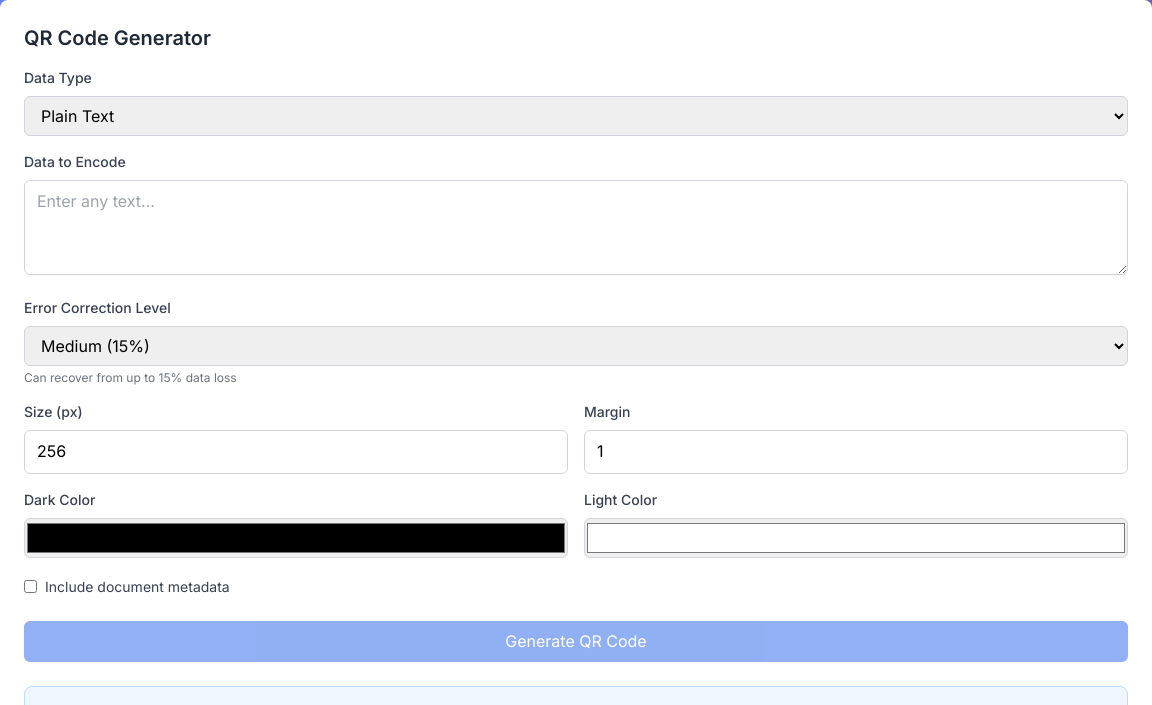
QRCodeGenerator › disables generate button when no data is entered
Expected: the button "Generate QR Code" is disabled, [24,621,1128,662]
Note: Enter some data
Type "Test data" into the text box labelled "Data to Encode".
click(576, 227); type("Test data")  # box [24,180,1128,275]
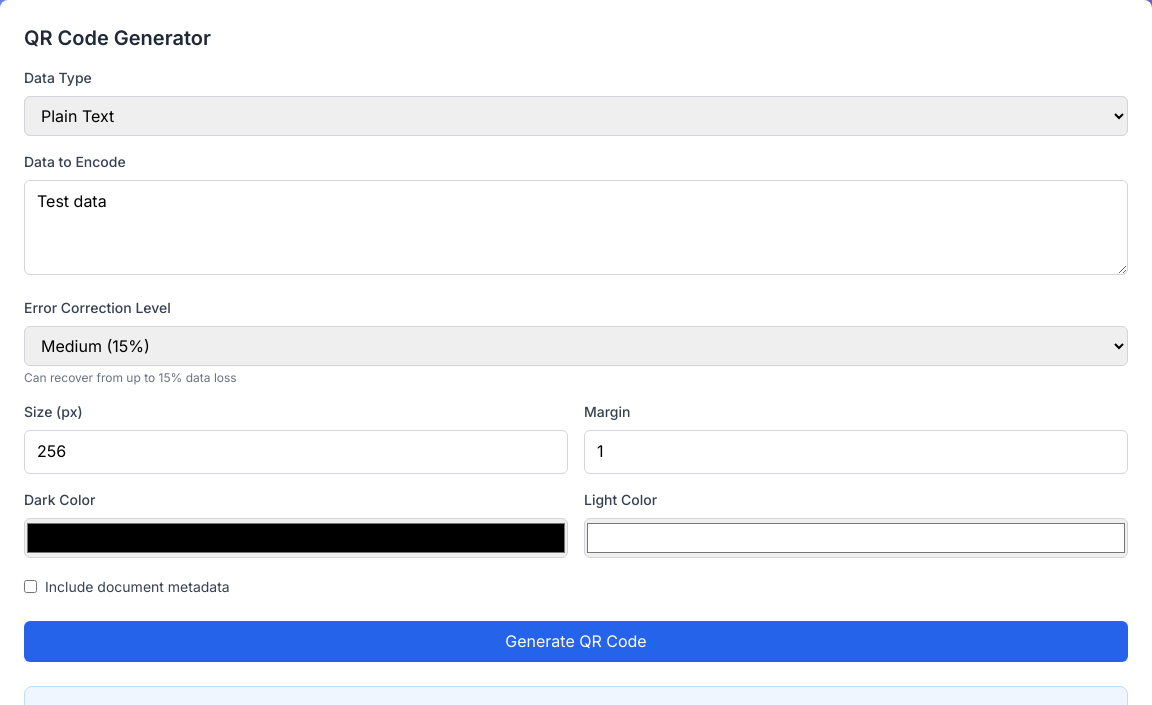
Expected: the button "Generate QR Code" is enabled, [24,621,1128,662]
